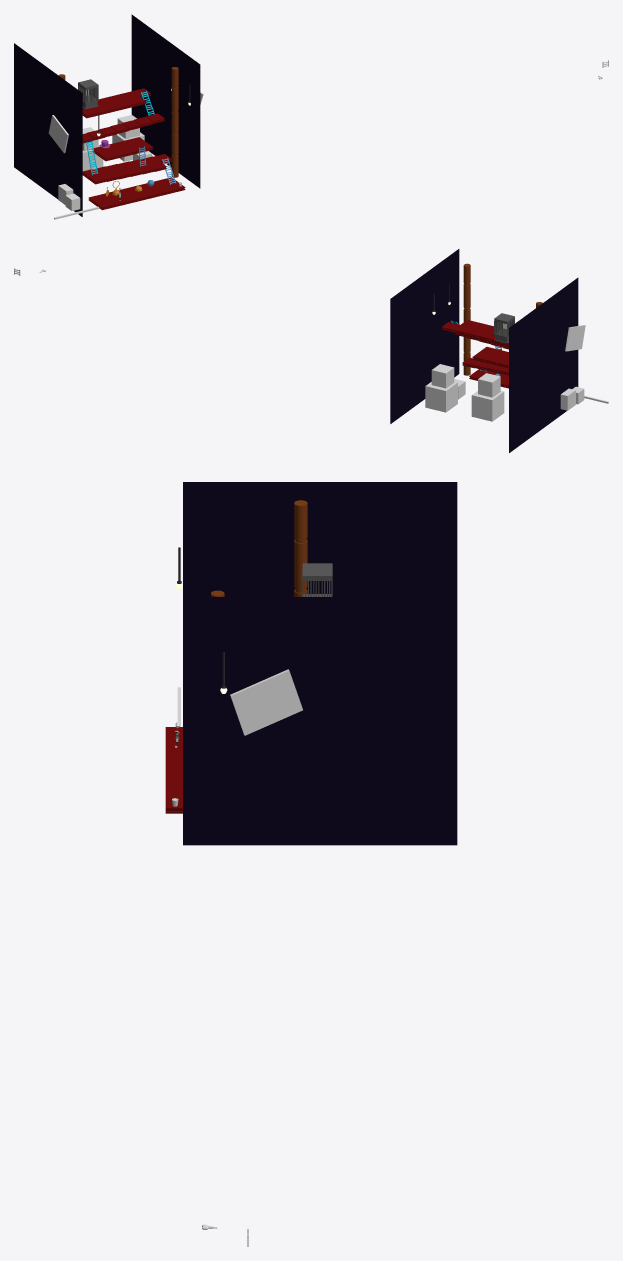
File: Level1Assets.fbx
The picture shows the model from 3 angles, top to bottom: view 1: azimuth 30°, elevation 25°; view 2: azimuth 150°, elevation 25°; view 3: azimuth 270°, elevation 25°; orthographic projection. The views are drawn at different scales.
Visible parts, largest first — view 1: Plane.002, Plane.003, FloorBlock, Cylinder.001, FloorBlock.002, FloorBlock.006, FloorBlock.001, FloorBlock.003, FloorBlock.004, Jail, Cube.007, FloorBlock.005 (+1 smaller); view 2: Plane.002, Plane.003, Cube.008, Cube.004, Cylinder.001, FloorBlock.005, FloorBlock.006, Cube.006, Jail, Cube.009, Cube.007, FloorBlock.003 (+1 smaller); view 3: Plane.003, Plane.002, Cube.010, FloorBlock, Cylinder.
Part boxes in pixels (bbox=[...]): Plane.002: bbox=[14, 43, 82, 216]; Plane.003: bbox=[131, 14, 200, 188]; FloorBlock: bbox=[88, 177, 185, 210]; Cylinder.001: bbox=[171, 67, 178, 177]; FloorBlock.002: bbox=[82, 113, 164, 143]; FloorBlock.006: bbox=[92, 137, 153, 161]; FloorBlock.001: bbox=[88, 161, 166, 184]; FloorBlock.003: bbox=[82, 154, 171, 179]; FloorBlock.004: bbox=[82, 96, 145, 118]; Jail: bbox=[78, 79, 98, 109]; Cube.007: bbox=[48, 115, 68, 153]; FloorBlock.005: bbox=[82, 88, 150, 109]; Plane.002: bbox=[509, 277, 578, 452]; Plane.003: bbox=[390, 249, 459, 423]; Cube.008: bbox=[471, 390, 504, 421]; Cube.004: bbox=[425, 381, 457, 412]; Cylinder.001: bbox=[463, 263, 470, 375]; FloorBlock.005: bbox=[441, 322, 508, 345]; FloorBlock.006: bbox=[472, 346, 508, 368]; Cube.006: bbox=[431, 364, 454, 388]; Jail: bbox=[494, 313, 514, 343]; Cube.009: bbox=[478, 373, 500, 397]; Cube.007: bbox=[565, 325, 585, 351]; FloorBlock.003: bbox=[462, 357, 508, 375]; Plane.003: bbox=[183, 597, 457, 845]; Plane.002: bbox=[183, 482, 457, 596]; Cube.010: bbox=[230, 669, 302, 735]; FloorBlock: bbox=[165, 727, 182, 813]; Cylinder: bbox=[294, 500, 307, 596].
Bounding box in the file's own units: 9627 × 2000 × 2126.
